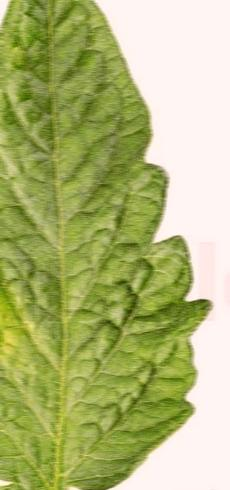Tomato leaf: (0, 0, 205, 490)
